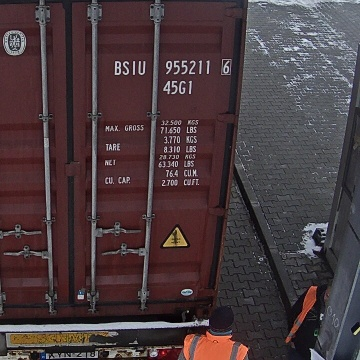serial_id: (114, 60, 229, 75)
